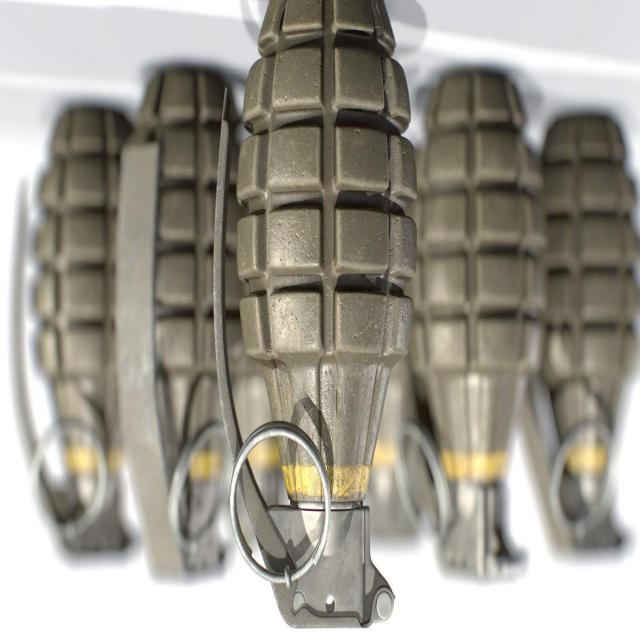grenade: (213, 2, 419, 632), (403, 65, 552, 582), (116, 68, 243, 585), (9, 106, 143, 568), (522, 110, 640, 565)
